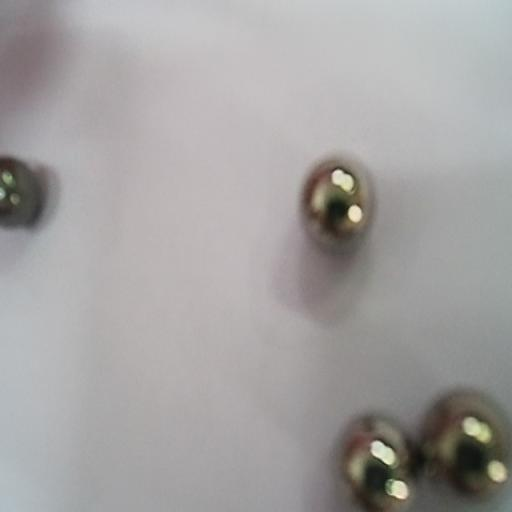steel-ball: (429, 372, 508, 504), (326, 404, 419, 512), (296, 148, 377, 261), (2, 153, 42, 234)
